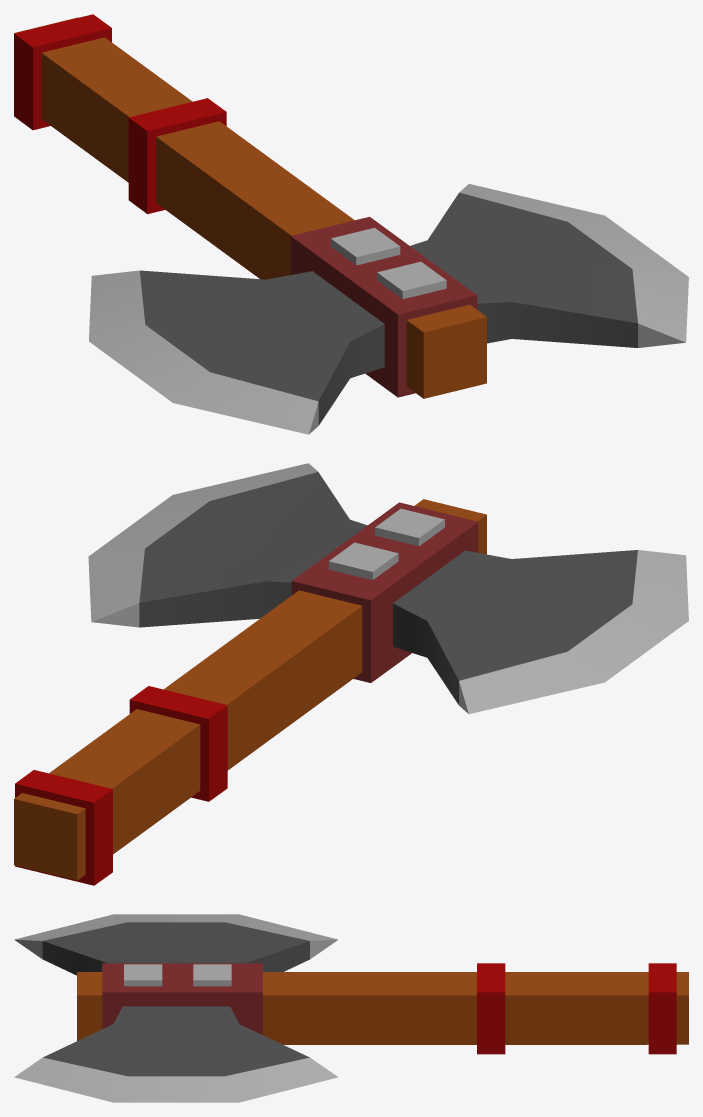
Rendered from Axe 01.FBX.
The picture shows the model from 3 angles, top to bottom: view 1: azimuth 30°, elevation 25°; view 2: azimuth 150°, elevation 25°; view 3: azimuth 270°, elevation 25°; orthographic projection. The views are drawn at different scales.
Visible parts, largest first — view 1: Axe 01; view 2: Axe 01; view 3: Axe 01.
Part boxes in pixels (x1,y1,x2,y2): Axe 01: (14, 14, 688, 434); Axe 01: (14, 463, 688, 885); Axe 01: (14, 914, 688, 1102).
Size of the model in its own units: 38.38 by 7.19 by 58.15.
